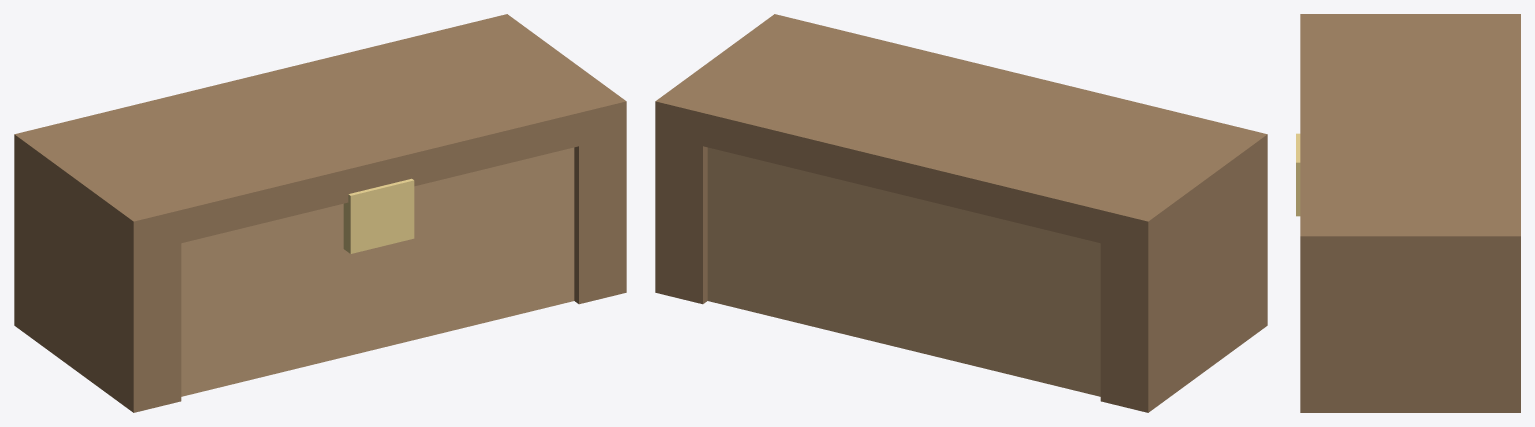
File: choose-starter-briefcase.gltf
3 renders of one model, left to right at view 1: azimuth 30°, elevation 25°; view 2: azimuth 150°, elevation 25°; view 3: azimuth 270°, elevation 25°, orthographic. The views are drawn at different scales.
Visible parts, largest first — view 1: choose-starter-briefcase; view 2: choose-starter-briefcase; view 3: choose-starter-briefcase.
Boxes of the visible parts, x1,y1,x2,y2 form: choose-starter-briefcase: (14,14,626,412); choose-starter-briefcase: (655,14,1267,412); choose-starter-briefcase: (1296,14,1520,412).
Size of the model in its own units: 124 by 46 by 53.
